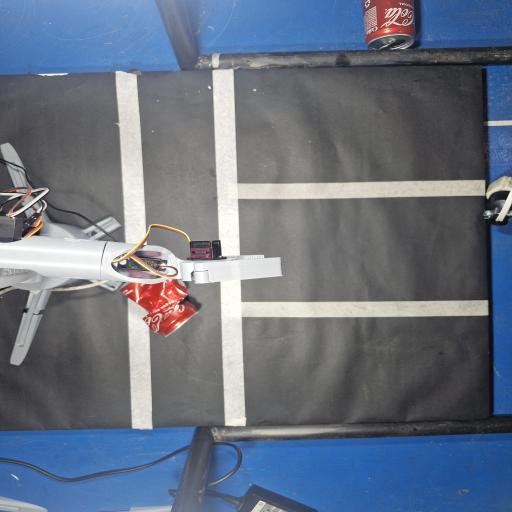lata_defectuoso: (122, 280, 196, 334)
